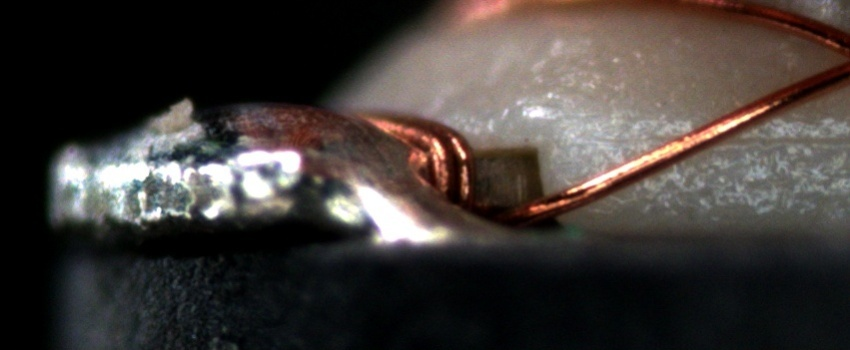CL: (827, 31, 850, 82)
DL: (610, 109, 849, 172)
TE: (340, 100, 482, 206)
